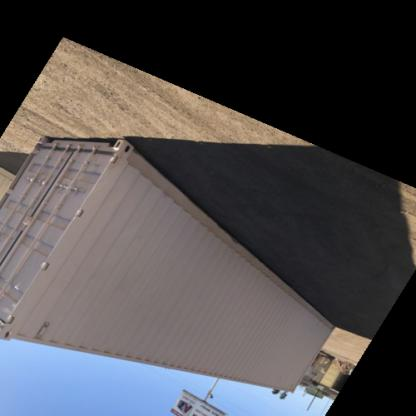Damage: (200, 254, 244, 282)
